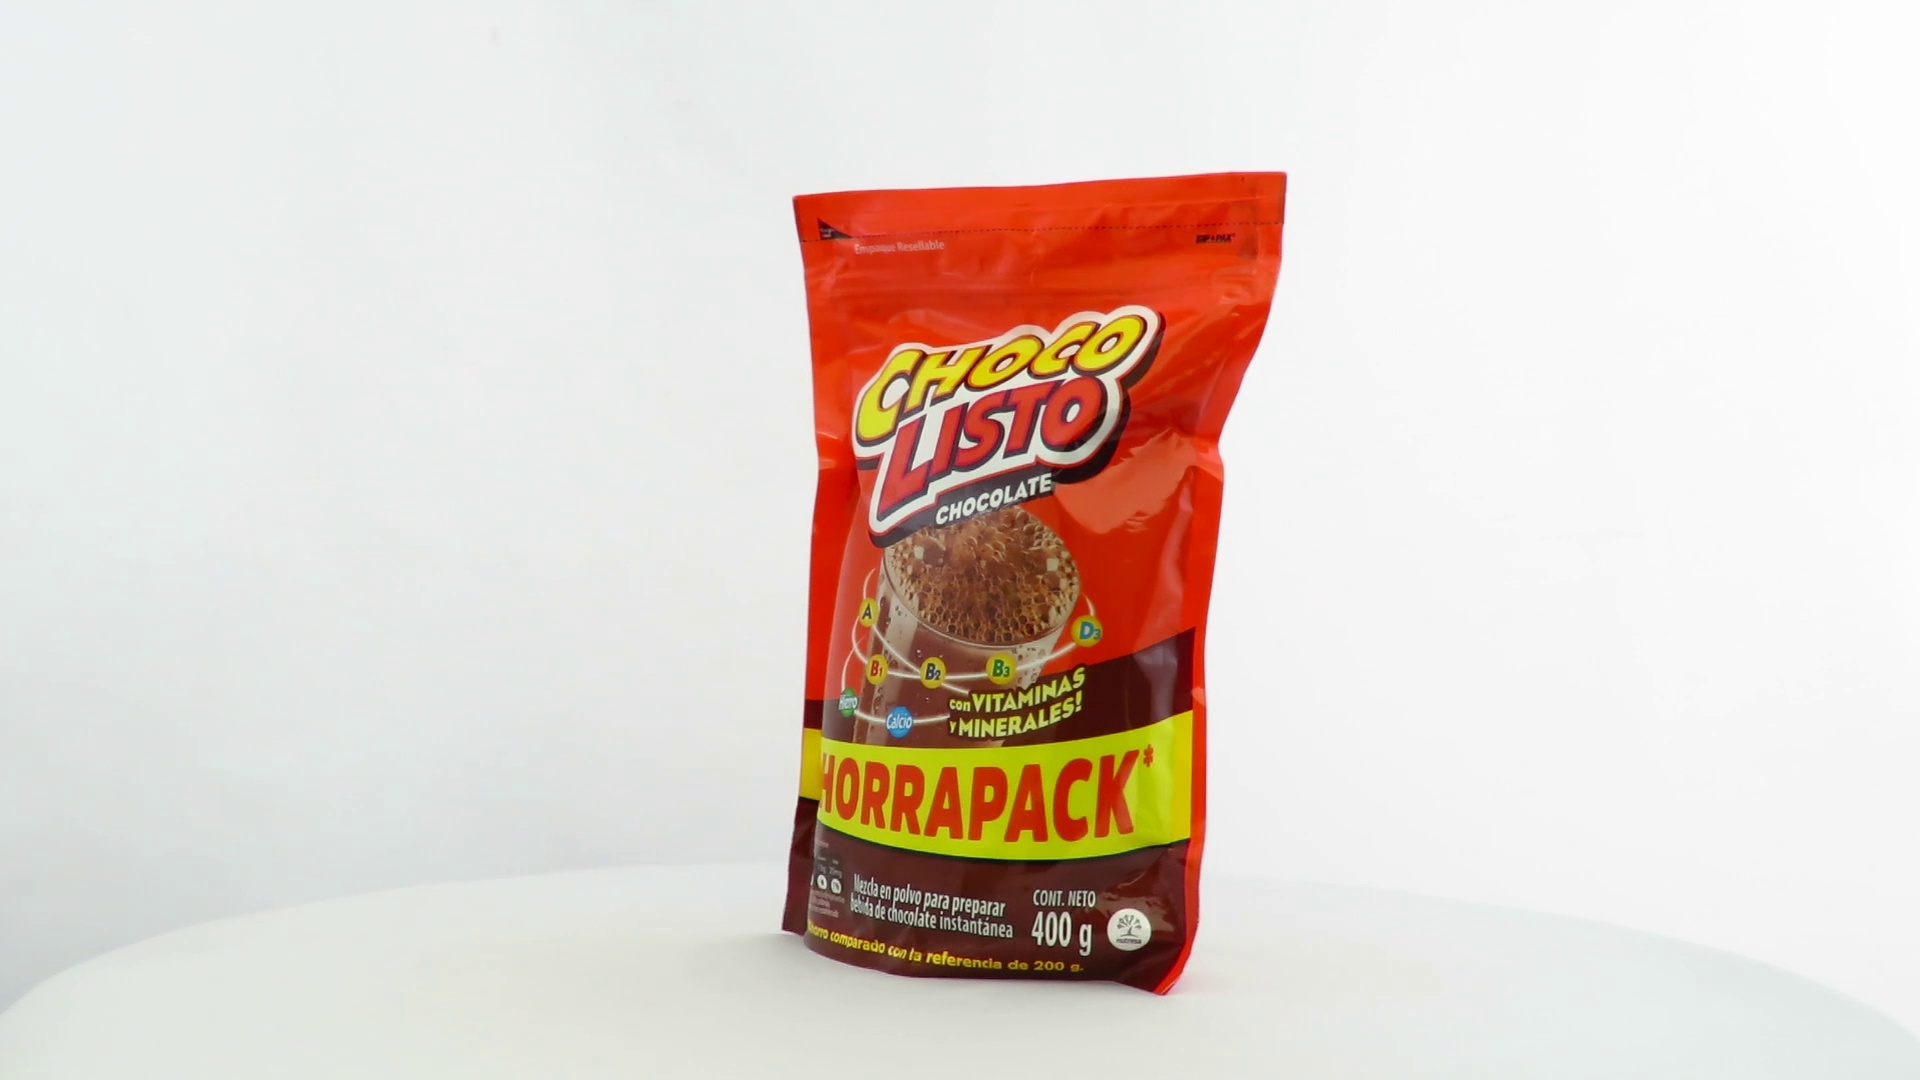COL0170103DYP40000: (777, 166, 1294, 1002)
